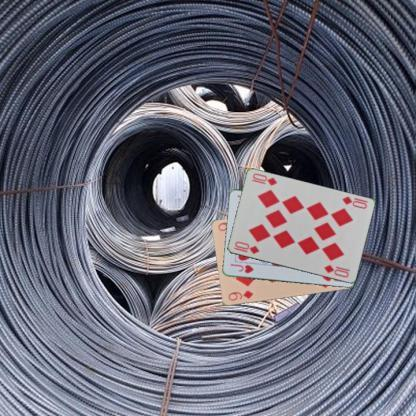10d: (232, 238, 260, 256), (339, 194, 368, 210)
9d: (225, 288, 254, 302)
Jh: (228, 261, 255, 275)
